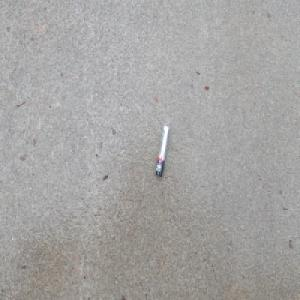Battery: (155, 123, 169, 178)
